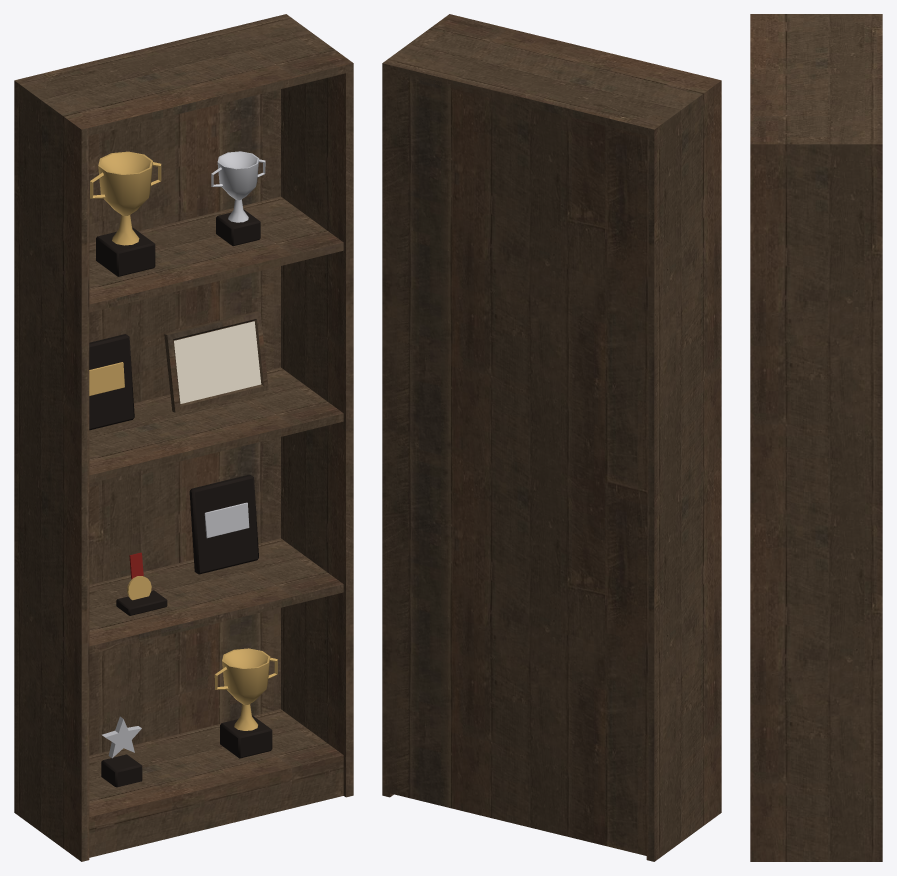
Rendered from ink-trophies.glb.
3 renders of one model, left to right at view 1: azimuth 30°, elevation 25°; view 2: azimuth 150°, elevation 25°; view 3: azimuth 270°, elevation 25°, orthographic. The views are drawn at different scales.
Parts seen in each view (by area): view 1: trophies; view 2: trophies; view 3: trophies.
Part boxes in pixels (x1,y1,x2,y2): trophies: [14, 14, 353, 861]; trophies: [382, 14, 721, 861]; trophies: [750, 14, 882, 861].
Bounding box in the file's own units: 0.7 × 1.8 × 0.3.
6 materials, 1 textured.
